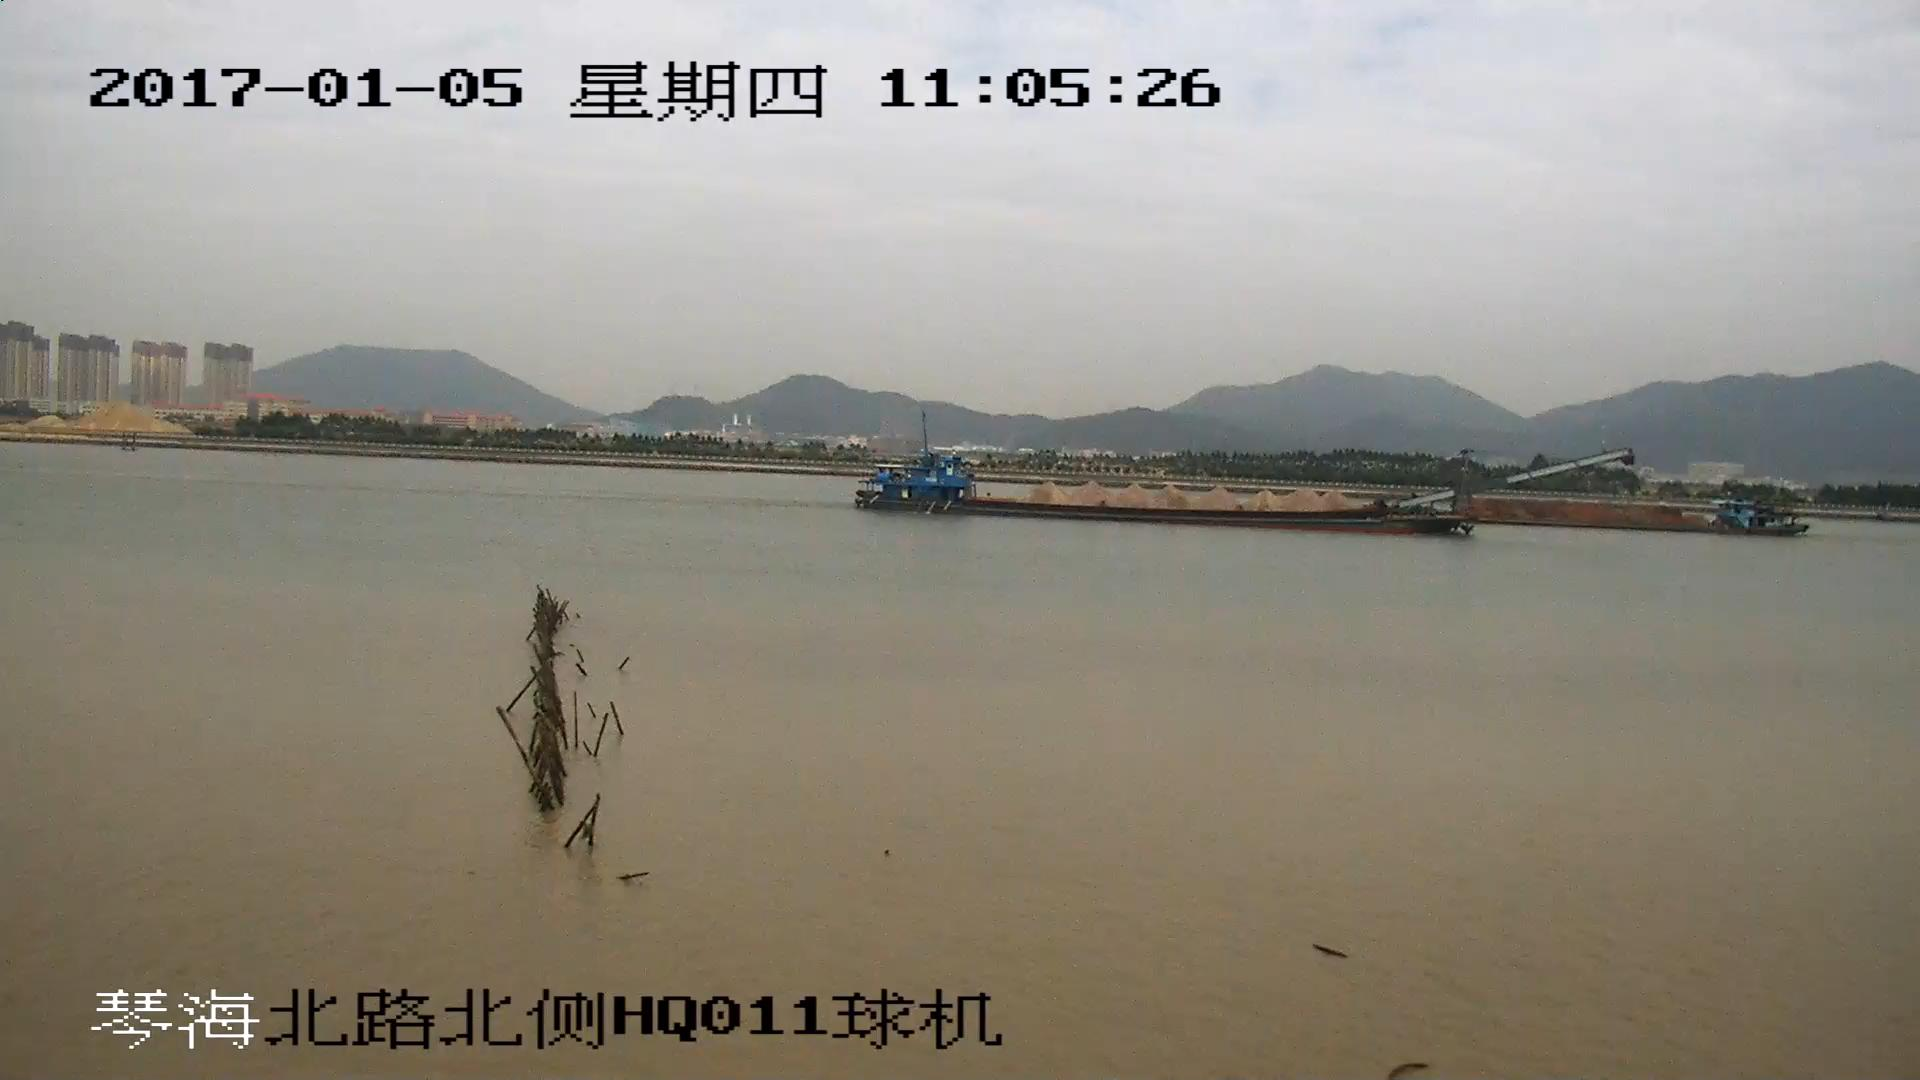ore carrier: (860, 450, 1628, 538), (1484, 500, 1806, 536)
